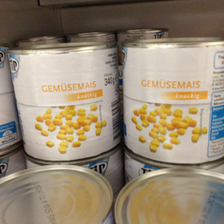corn: (8, 41, 121, 165), (120, 35, 223, 166)
